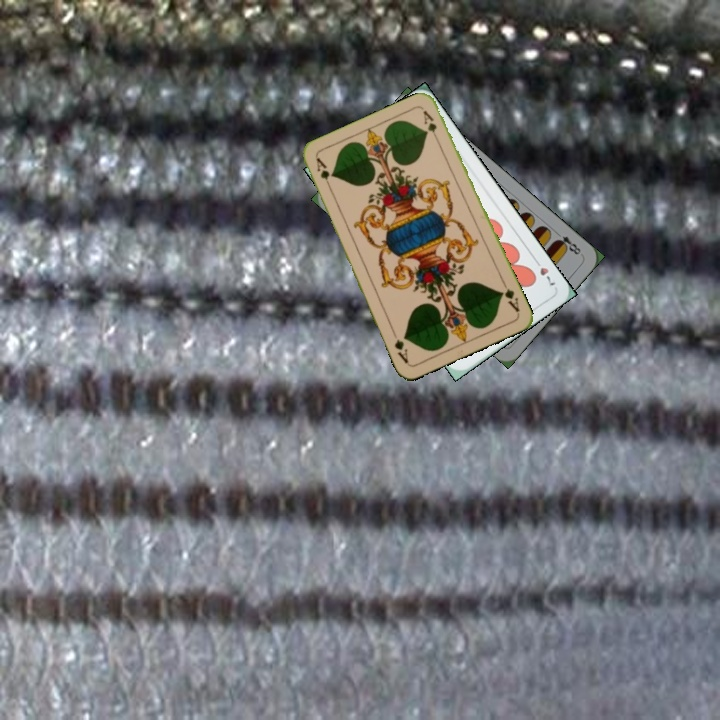E8: (551, 227, 585, 258)
GA: (497, 277, 523, 315), (312, 154, 334, 193)
H7: (530, 254, 558, 290)
